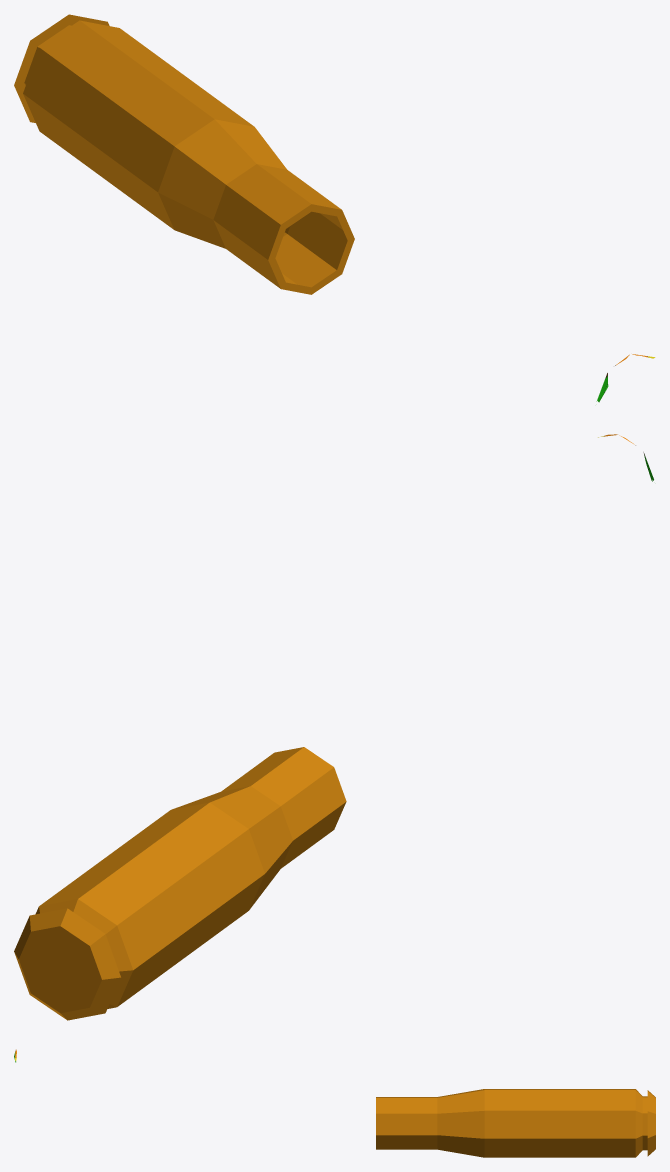
Rendered from Гильза.fbx.
3 renders of one model, top to bottom at view 1: azimuth 30°, elevation 25°; view 2: azimuth 150°, elevation 25°; view 3: azimuth 270°, elevation 25°, orthographic. The views are drawn at different scales.
Visible parts, largest first — view 1: Assualt Rifle Bullet.004; view 2: Assualt Rifle Bullet.004; view 3: Assualt Rifle Bullet.004.
Boxes of the visible parts, x1=… form: Assualt Rifle Bullet.004: x1=14, y1=14, x2=354, y2=294; Assualt Rifle Bullet.004: x1=14, y1=747, x2=346, y2=1020; Assualt Rifle Bullet.004: x1=376, y1=1089, x2=655, y2=1157.
Bounding box in the file's own units: 10.92 × 17.5 × 95.66.
